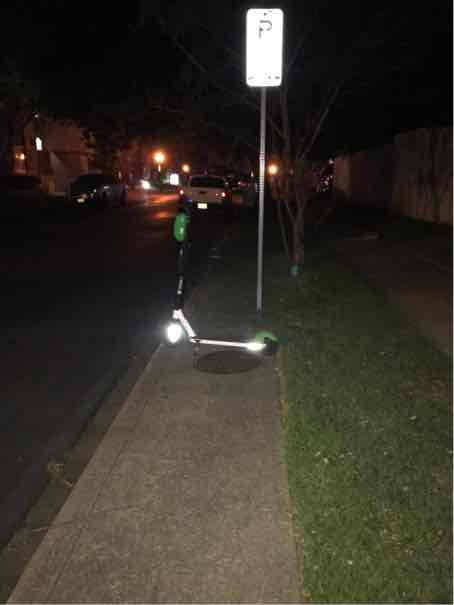too close: (137, 308, 194, 366)
